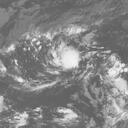cyclone: (60, 48, 80, 69)
